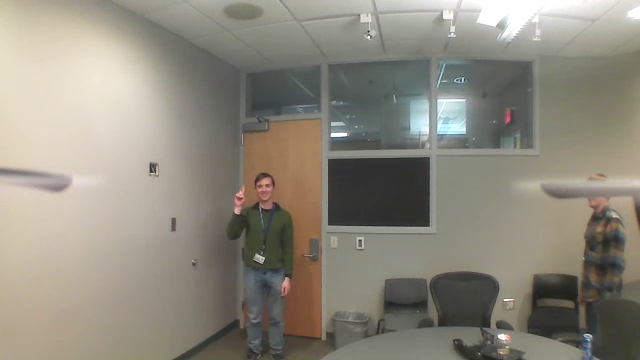up: (232, 184, 246, 208)
